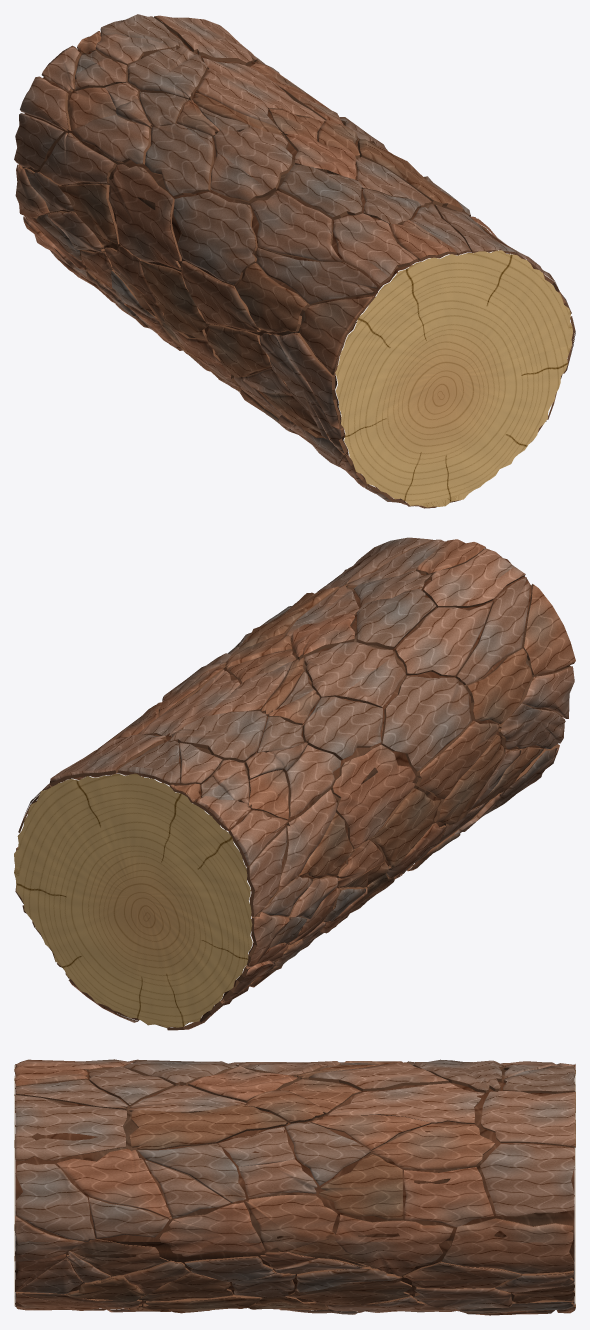
Rendered from palewood_log.glb.
The picture shows the model from 3 angles, top to bottom: view 1: azimuth 30°, elevation 25°; view 2: azimuth 150°, elevation 25°; view 3: azimuth 270°, elevation 25°; orthographic projection. The views are drawn at different scales.
Parts seen in each view (by area): view 1: Cinnamon and weathered grey pine plate faces, Warm pale pine annual endgrain, Thin ochre bark fracture edges, Connected fibrous brown trunk beneath shallow plate fissures; view 2: Cinnamon and weathered grey pine plate faces, Warm pale pine annual endgrain, Thin ochre bark fracture edges, Connected fibrous brown trunk beneath shallow plate fissures; view 3: Cinnamon and weathered grey pine plate faces, Connected fibrous brown trunk beneath shallow plate fissures, Thin ochre bark fracture edges, Warm pale pine annual endgrain.
Part boxes in pixels (left/top/right/bottom): Cinnamon and weathered grey pine plate faces: left=14, top=14, right=575, bottom=508; Warm pale pine annual endgrain: left=335, top=250, right=572, bottom=507; Thin ochre bark fracture edges: left=17, top=16, right=575, bottom=508; Connected fibrous brown trunk beneath shallow plate fissures: left=19, top=25, right=535, bottom=504; Cinnamon and weathered grey pine plate faces: left=16, top=537, right=575, bottom=1030; Warm pale pine annual endgrain: left=14, top=773, right=252, bottom=1027; Thin ochre bark fracture edges: left=15, top=540, right=572, bottom=1030; Connected fibrous brown trunk beneath shallow plate fissures: left=34, top=553, right=569, bottom=1024; Cinnamon and weathered grey pine plate faces: left=14, top=1059, right=575, bottom=1315; Connected fibrous brown trunk beneath shallow plate fissures: left=15, top=1064, right=574, bottom=1307; Thin ochre bark fracture edges: left=14, top=1064, right=575, bottom=1311; Warm pale pine annual endgrain: left=14, top=1065, right=575, bottom=1307.
Size of the model in its own units: 0.2462 by 0.2478 by 0.5404.
Materials: 4 (3 with a texture image).
